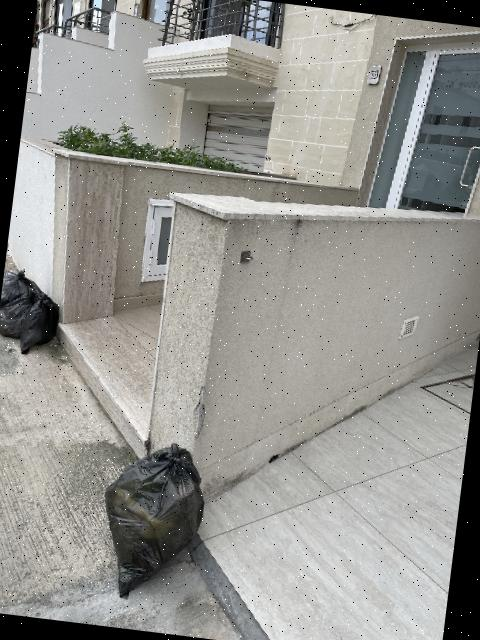Recyclable -Grey-: (105, 443, 204, 597), (0, 287, 59, 353), (0, 270, 32, 307)
